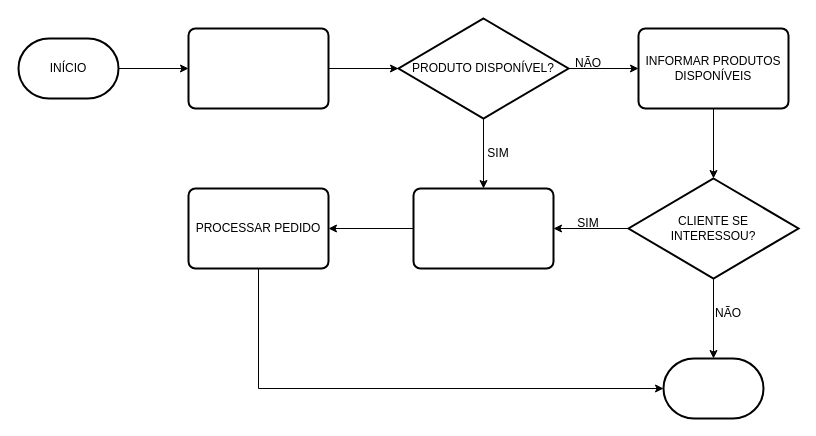
Some shapes in this 816 by 436 pixel diagram are drawn without their labels. Here are the shapes that lost their labels. From the top down, the box of each, then its label:
(187, 27, 329, 109): RECEBER PEDIDO
(412, 187, 554, 269): RECEBER PAGAMENTO
(662, 357, 764, 419): FIM
